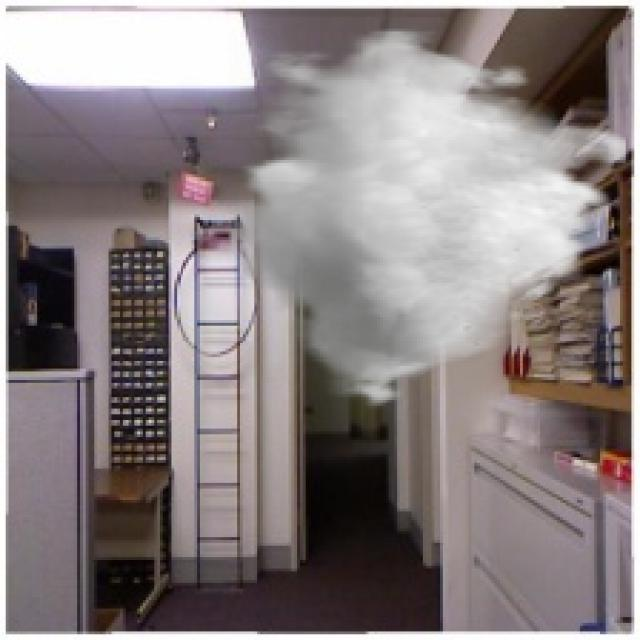Smoke: (228, 28, 628, 414)
